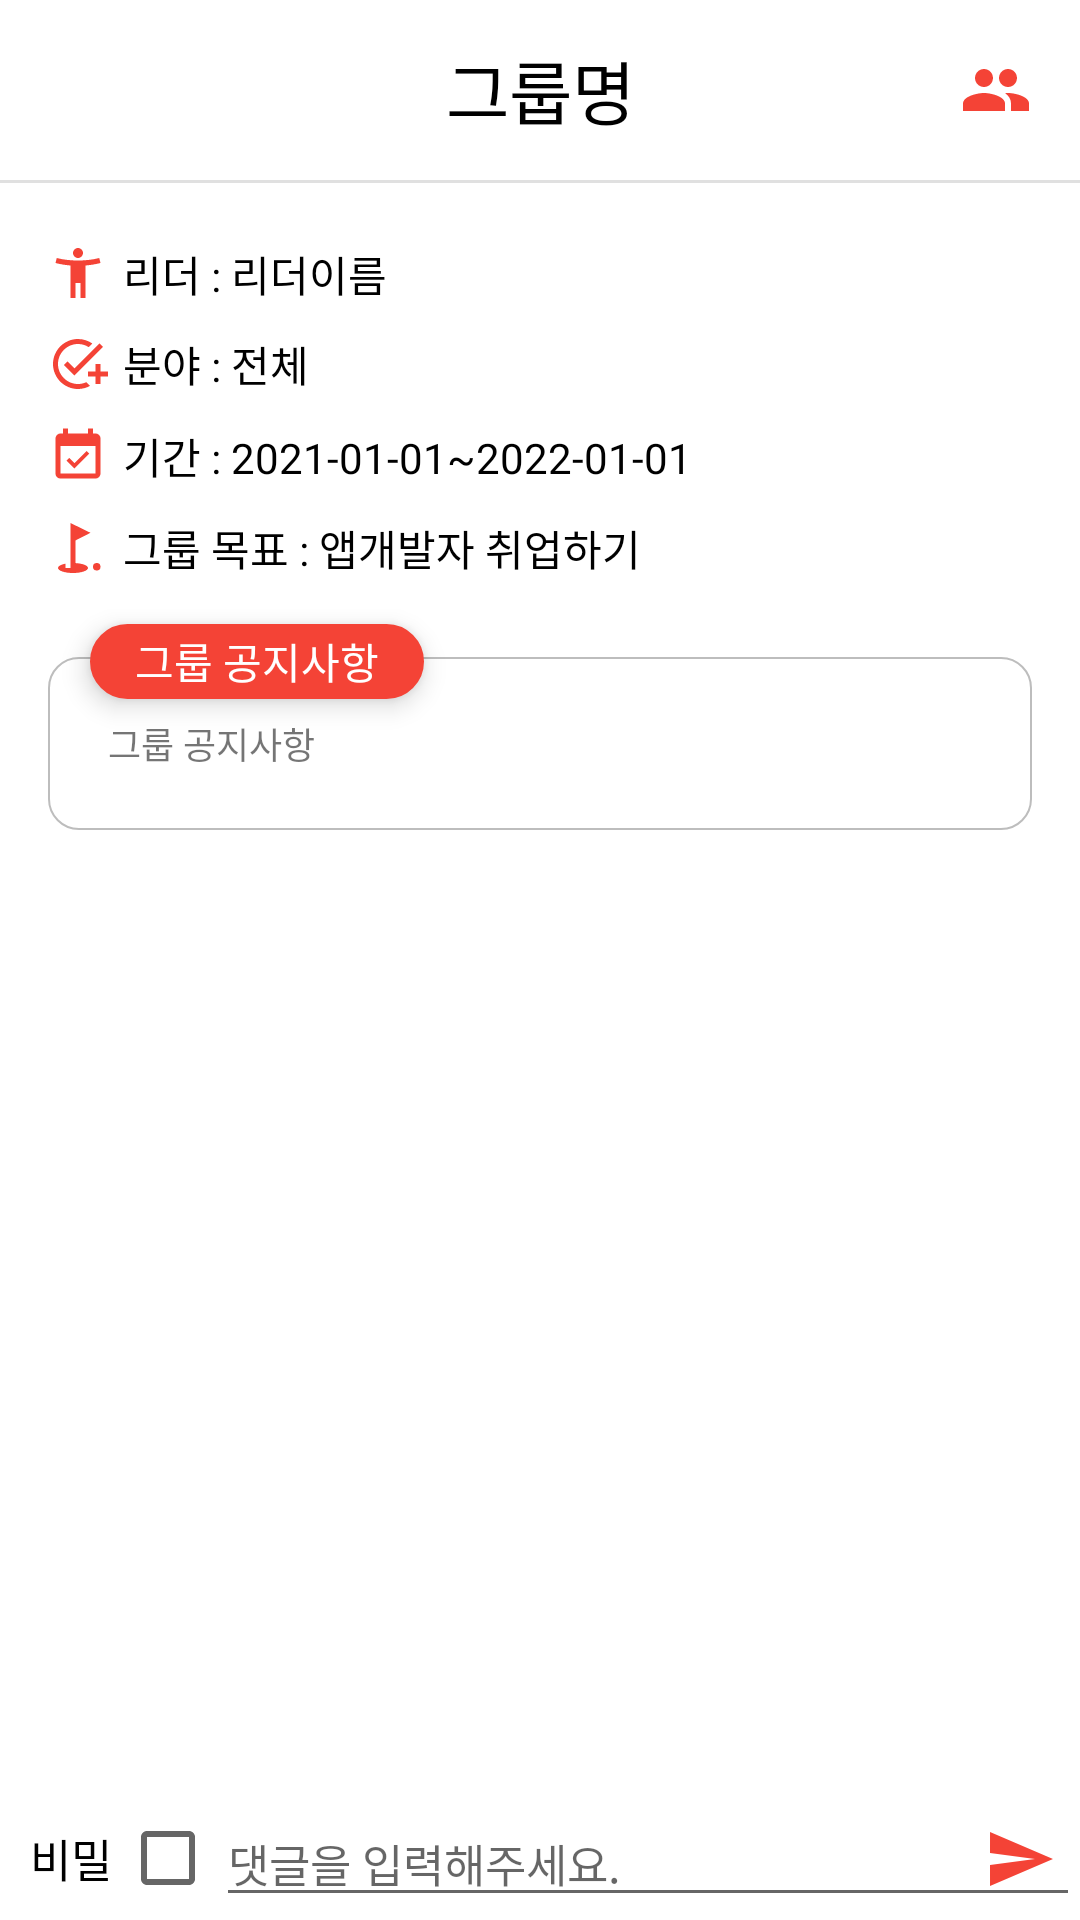

Where icons sit on this 1080 × 1920 app screen, as (x1=x1, y1=y1, x2=x2, y2=y2):
calendar: (x1=55, y1=428, x2=101, y2=479)
group goal: (x1=58, y1=523, x2=101, y2=573)
member: (x1=963, y1=69, x2=1029, y2=111)
